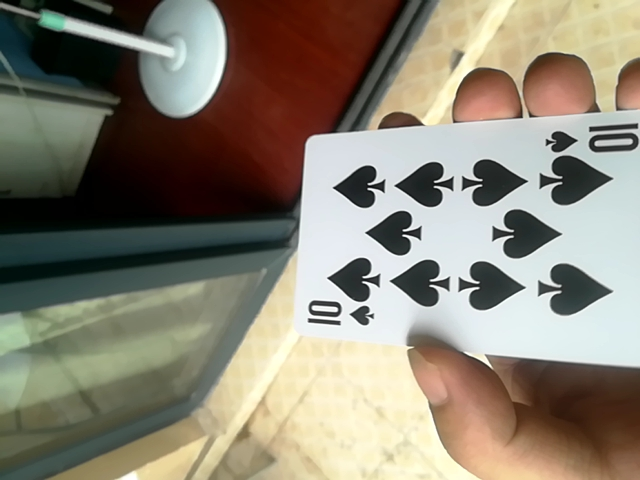ht 10: (284, 100, 638, 373)
